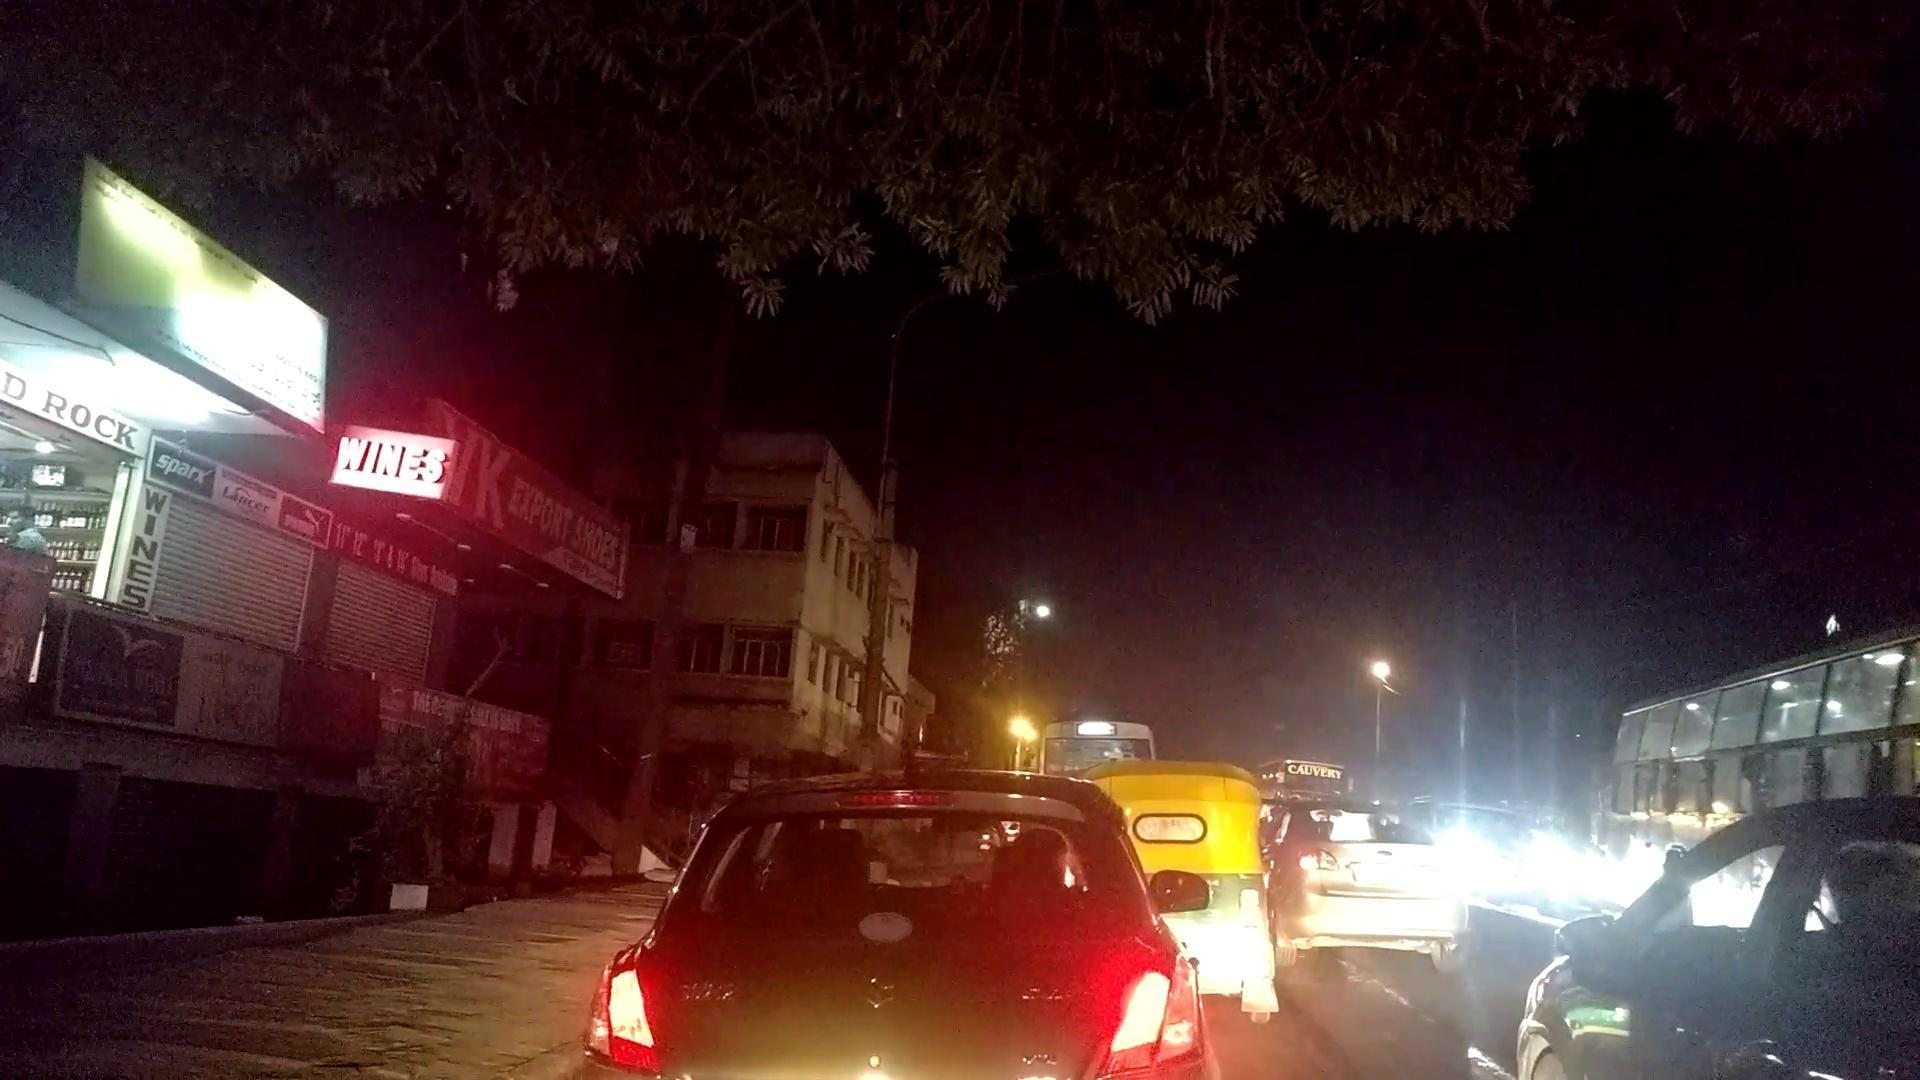on: (1290, 483, 1543, 827)
